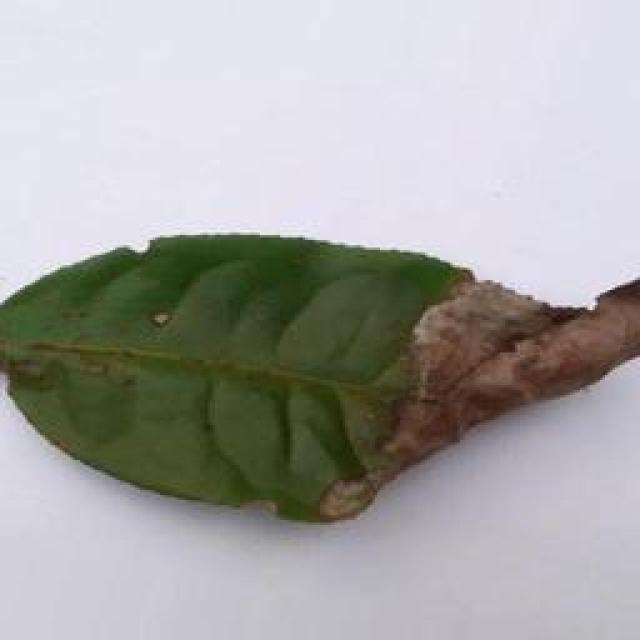Brown Blight: (2, 200, 640, 526)
